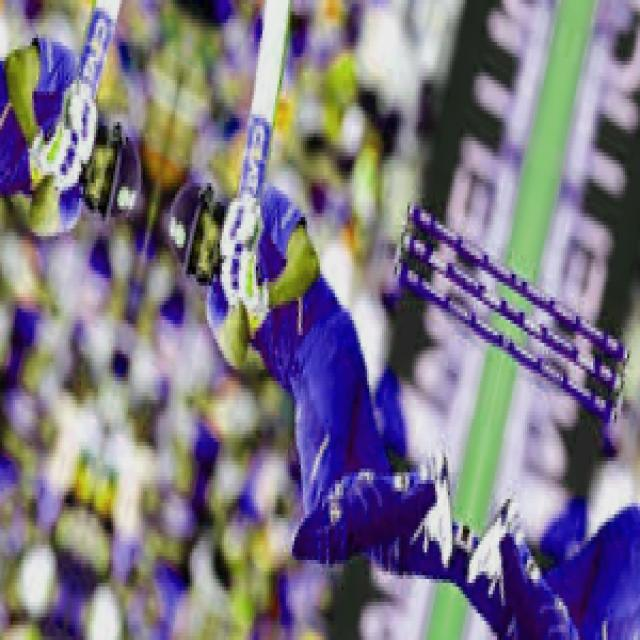toe: (258, 0, 299, 30)
